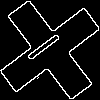I: (25, 25, 70, 63)
